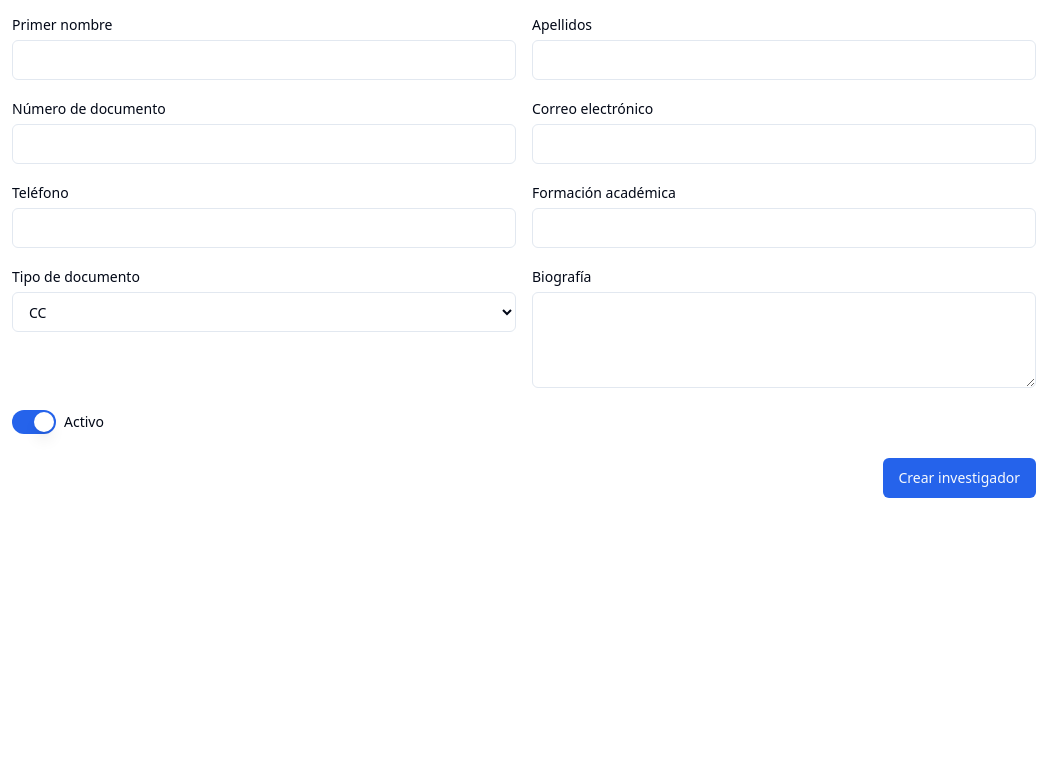
Test: ResearcherForm › surfaces required-field validation messages
The width and height of the screenshot is (1048, 780).
Click the button "Crear investigador" at (959, 478), box [882, 458, 1036, 498]
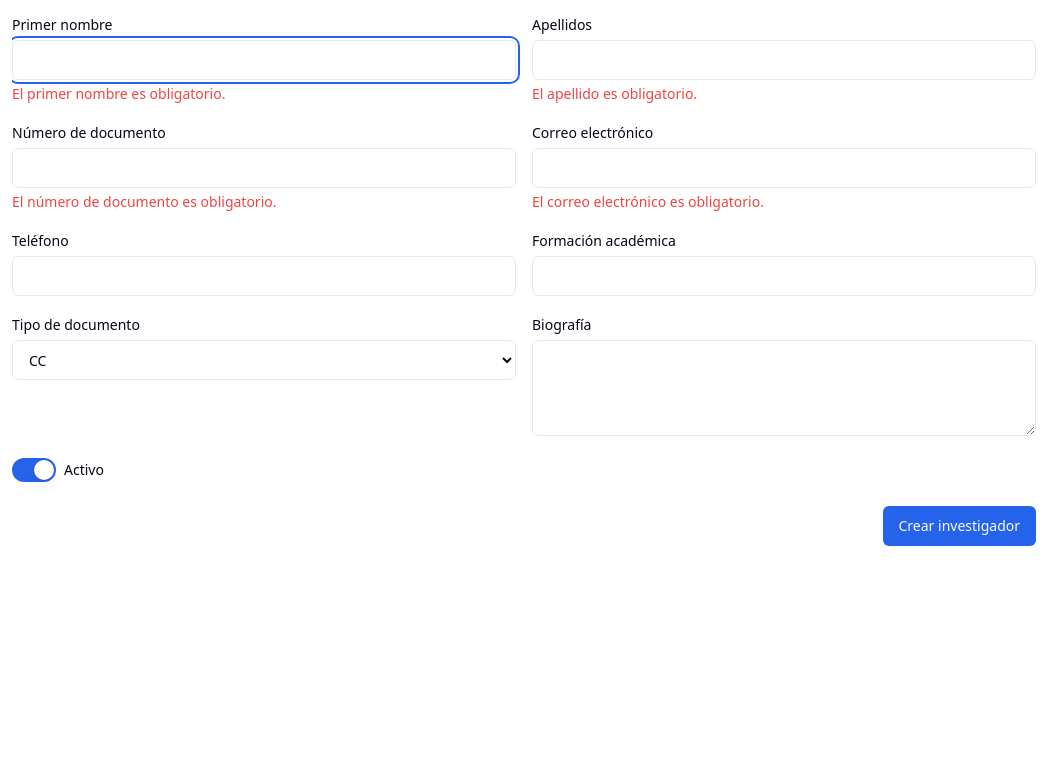
Expected: the text "El primer nombre es obligatorio." is shown, [12, 84, 226, 103]
